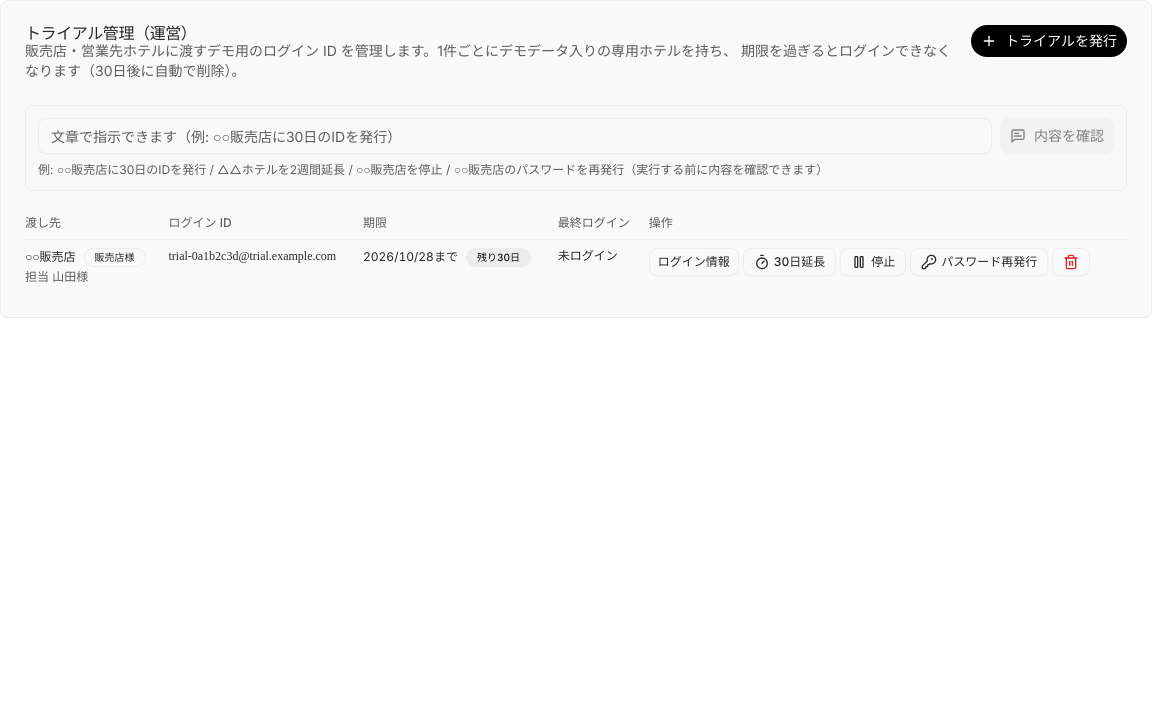
Test: TrialManagementSection › 一覧から同じログイン情報を再表示し、閉じるとパスワードを消す
The width and height of the screenshot is (1152, 720).
Step 1. Click the button "ログイン情報" → (694, 262), box [649, 248, 739, 276]
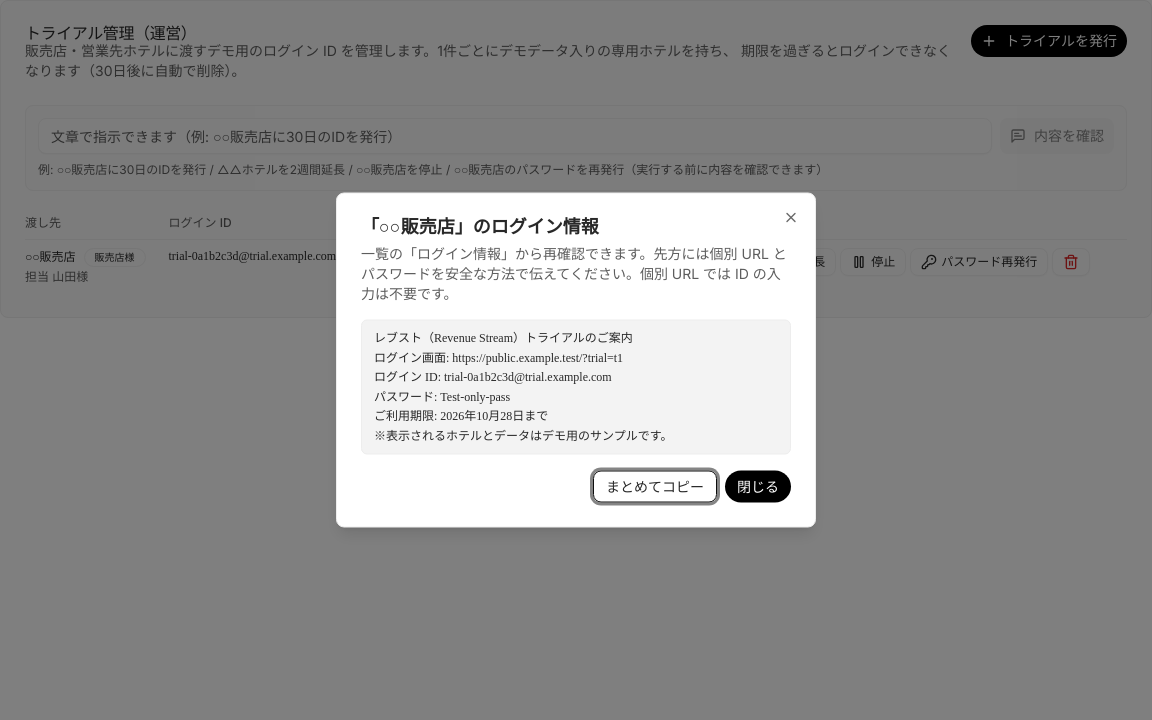
Now the text "Test-only-pass" shows "https://public.example.test/?trial=t1", box [374, 330, 672, 442]
Step 2. Click the button "閉じる" → (758, 486), box [725, 470, 791, 502]
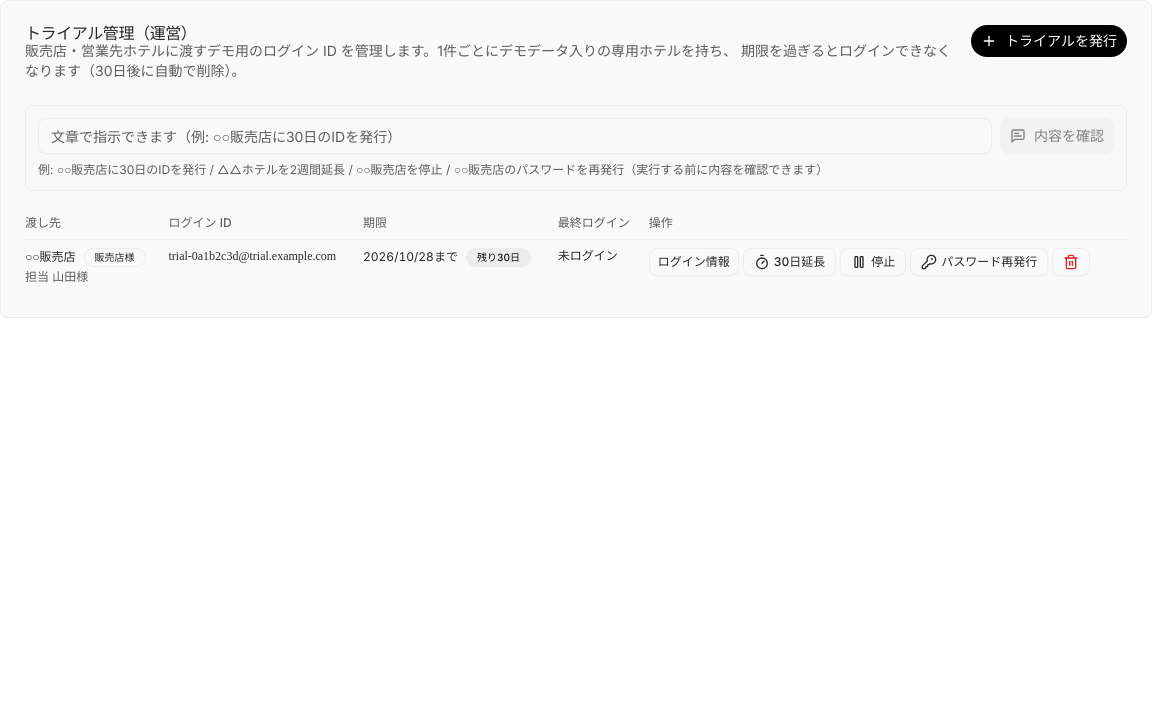
Now the text "Test-only-pass" is gone
Step 3. Click the button "ログイン情報" → (694, 262), box [649, 248, 739, 276]
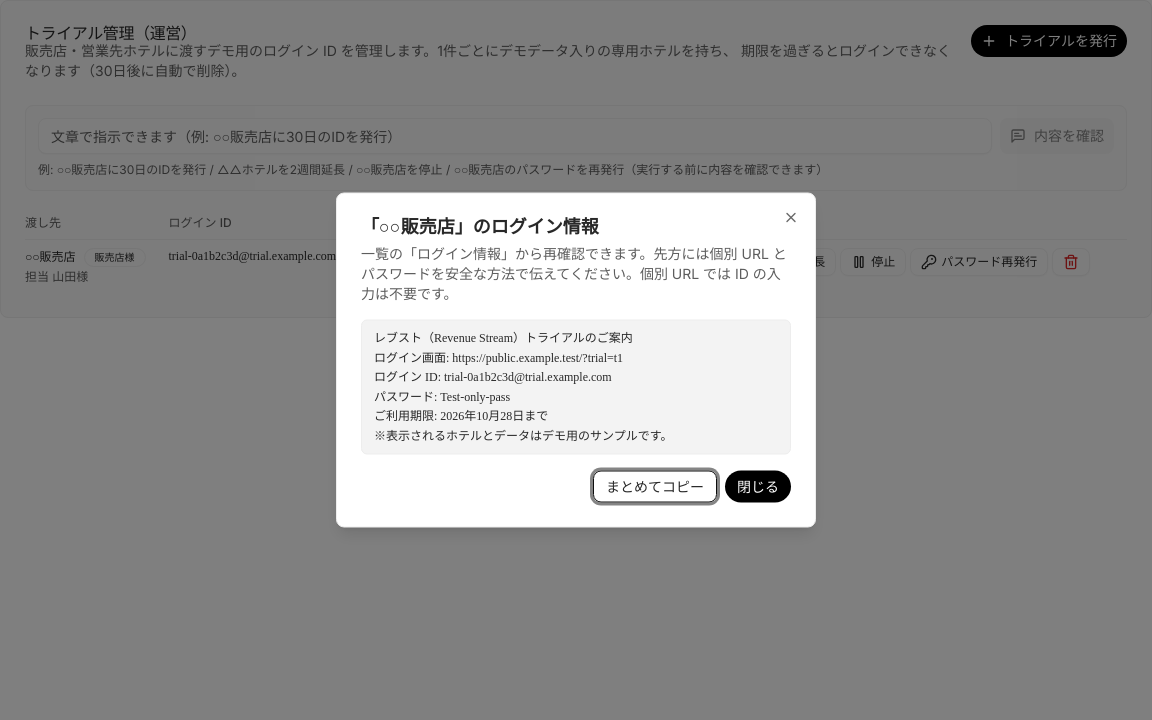
Now the text "Test-only-pass" is shown, box [374, 330, 672, 442]
